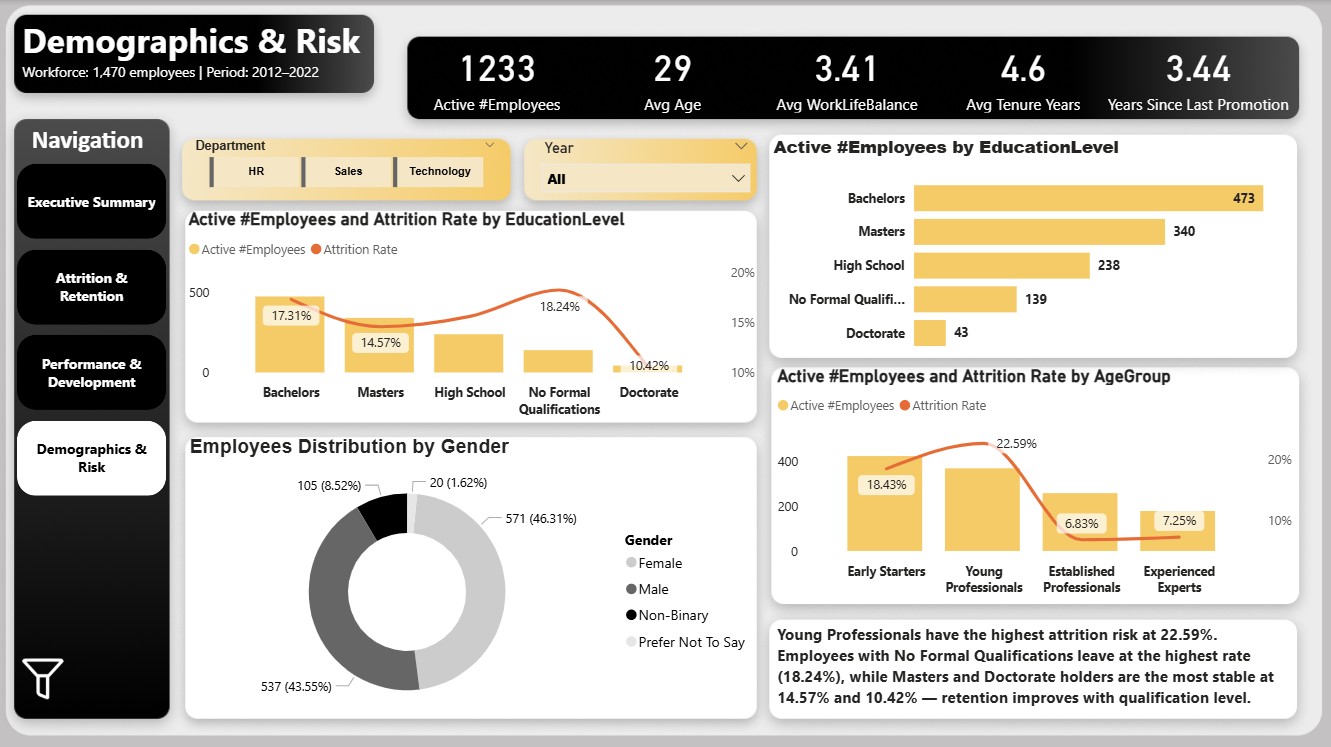

This screenshot's page, from the dashboard's own definition file:
{"tool":"powerbi","page":{"name":"Demographics & Risk","canvas":[1280,720],"ordinal":3},"visuals":[{"type":"card","fields":{"Values":["_Measures.Active #Employees"]},"box":[384.7,30.9,190,82],"z":0},{"type":"card","fields":{"Values":["_Measures.AvgAge"]},"box":[553.4,31.5,188.9,82.6],"z":1000},{"type":"card","fields":{"Values":["_Measures.Avg WorkLifeBalance"]},"box":[720.9,30.9,190,82],"z":2000},{"type":"textbox","box":[19.3,12.1,346.2,88.1],"z":3000},{"type":"pageNavigator","box":[19.3,156.8,143.6,320],"z":4000},{"type":"slicer","fields":{"Values":["DimDate.Year"]},"box":[512,128.6,220.7,58],"z":5000},{"type":"slicer","fields":{"Values":["DimEmployee.Department"]},"box":[177.8,128.6,312.7,58],"z":6000},{"type":"clusteredBarChart","fields":{"Category":["EducationLevel.EducationLevel"],"Y":["_Measures.Active #Employees"]},"box":[739.6,128.9,507.8,221.4],"z":7000},{"type":"card","fields":{"Values":["_Measures.Avg Tenure Years"]},"box":[889,30.9,190,82],"z":8000},{"type":"donutChart","title":" Employees Distribution  by Gender ","fields":{"Y":["_Measures.Active #Employees"],"Category":["DimEmployee.Gender"]},"box":[179.2,417.4,552.1,280.5],"z":9000},{"type":"lineClusteredColumnComboChart","fields":{"Category":["DimEmployee.AgeGroup"],"Y":["_Measures.Active #Employees"],"Y2":["_Measures.Attrition Rate"]},"box":[743.6,350.2,503.6,229.5],"z":10000},{"type":"lineClusteredColumnComboChart","fields":{"Category":["EducationLevel.EducationLevel"],"Y":["_Measures.Active #Employees"],"Y2":["_Measures.Attrition Rate"]},"box":[178.1,200.4,553.2,208.2],"z":11000},{"type":"card","fields":{"Values":["_Measures.Avg YearsSinceLastPromotion"]},"box":[1057,31.2,190.2,82],"z":12000},{"type":"textbox","box":[743.6,592.8,503.6,104.9],"z":13000},{"type":"image","box":[19.7,616.4,49.8,69.5],"z":14000},{"type":"textbox","box":[10.5,114.1,152.1,43.3],"z":15000}]}

Visuals, with their boxes in screenshot pixels (x1, y1, x2, y2), scaled from the page's 1280x720 canvas onto the 1331x747 screenshot:
card - _Measures.Active #Employees: Rect(400, 32, 598, 117)
card - _Measures.AvgAge: Rect(575, 33, 772, 118)
card - _Measures.Avg WorkLifeBalance: Rect(750, 32, 947, 117)
textbox: Rect(20, 13, 380, 104)
pageNavigator: Rect(20, 163, 169, 495)
slicer - DimDate.Year: Rect(532, 133, 762, 194)
slicer - DimEmployee.Department: Rect(185, 133, 510, 194)
clusteredBarChart - EducationLevel.EducationLevel x _Measures.Active #Employees: Rect(769, 134, 1297, 363)
card - _Measures.Avg Tenure Years: Rect(924, 32, 1122, 117)
" Employees Distribution  by Gender " donutChart: Rect(186, 433, 760, 724)
lineClusteredColumnComboChart - DimEmployee.AgeGroup x _Measures.Active #Employees: Rect(773, 363, 1297, 601)
lineClusteredColumnComboChart - EducationLevel.EducationLevel x _Measures.Active #Employees: Rect(185, 208, 760, 424)
card - _Measures.Avg YearsSinceLastPromotion: Rect(1099, 32, 1297, 117)
textbox: Rect(773, 615, 1297, 724)
image: Rect(20, 640, 72, 712)
textbox: Rect(11, 118, 169, 163)
